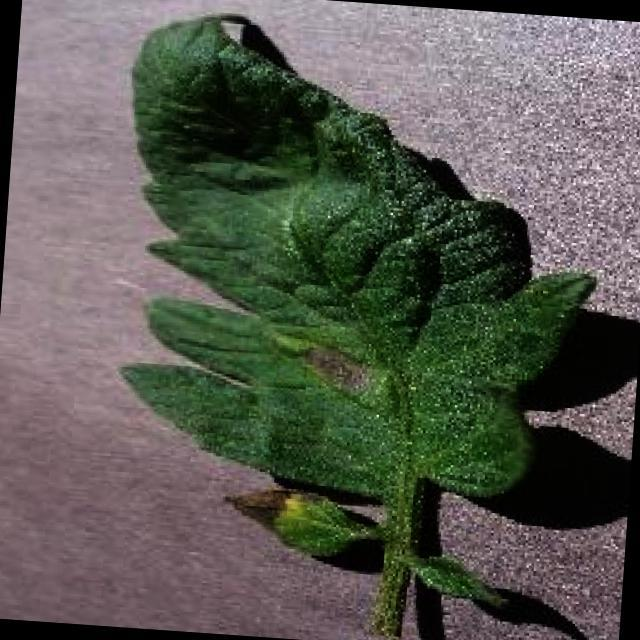Tomato Early blight leaf: (104, 4, 616, 568)
